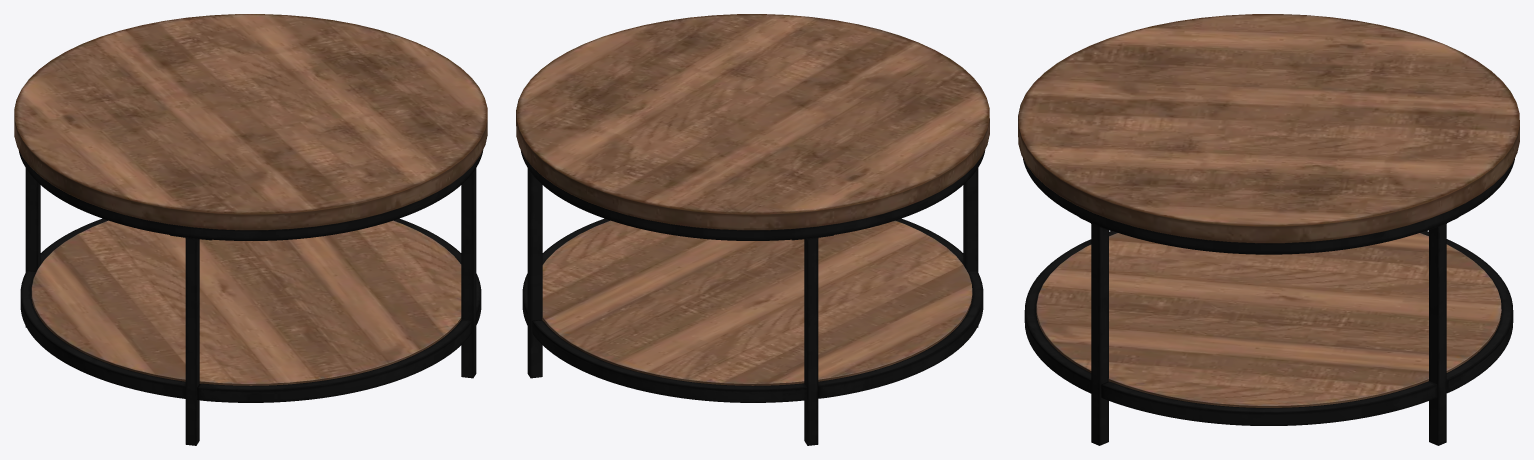
The model's file is abo-B075Z8KXDT.glb.
3 renders of one model, left to right at view 1: azimuth 30°, elevation 25°; view 2: azimuth 150°, elevation 25°; view 3: azimuth 270°, elevation 25°, orthographic. The views are drawn at different scales.
Bounding box in the file's own units: 0.837 × 0.462 × 0.837.
1 material, 1 textured.
